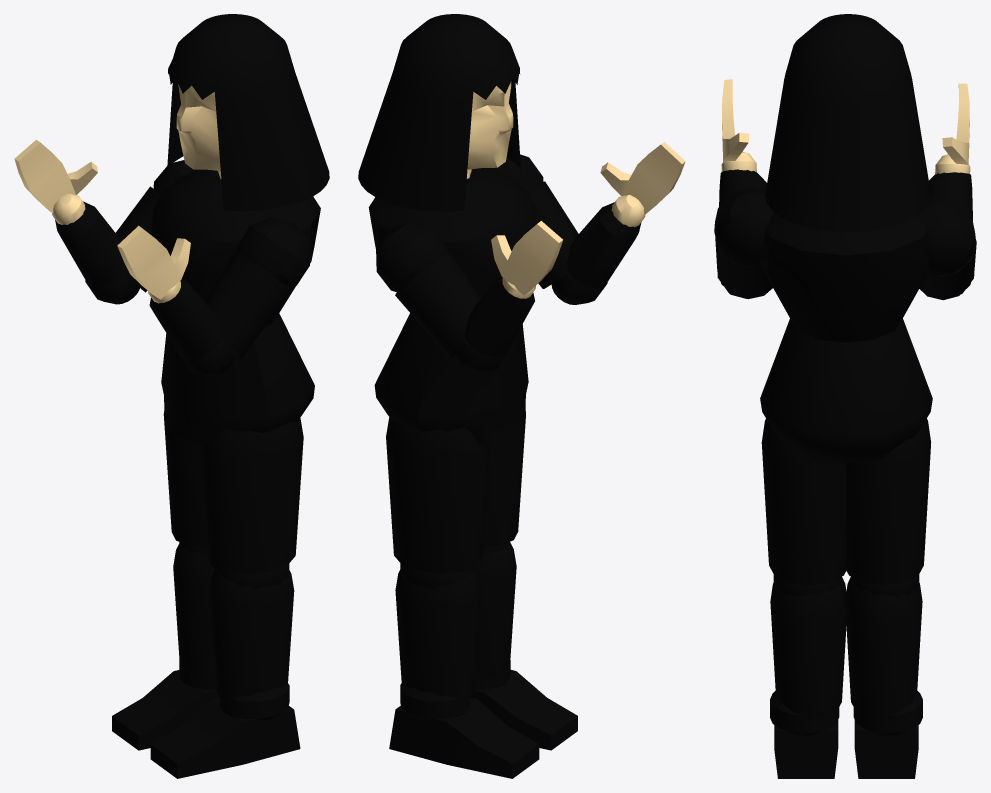
File: Linda.fbx
3 renders of one model, left to right at view 1: azimuth 30°, elevation 25°; view 2: azimuth 150°, elevation 25°; view 3: azimuth 270°, elevation 25°, orthographic. The views are drawn at different scales.
Parts seen in each view (by area): view 1: Femme; view 2: Femme; view 3: Femme.
Boxes of the visible parts, x1,y1,x2,y2 form: Femme: [14, 14, 329, 778]; Femme: [358, 14, 685, 778]; Femme: [714, 14, 976, 778].
Size of the model in its own units: 309 by 817 by 262.
